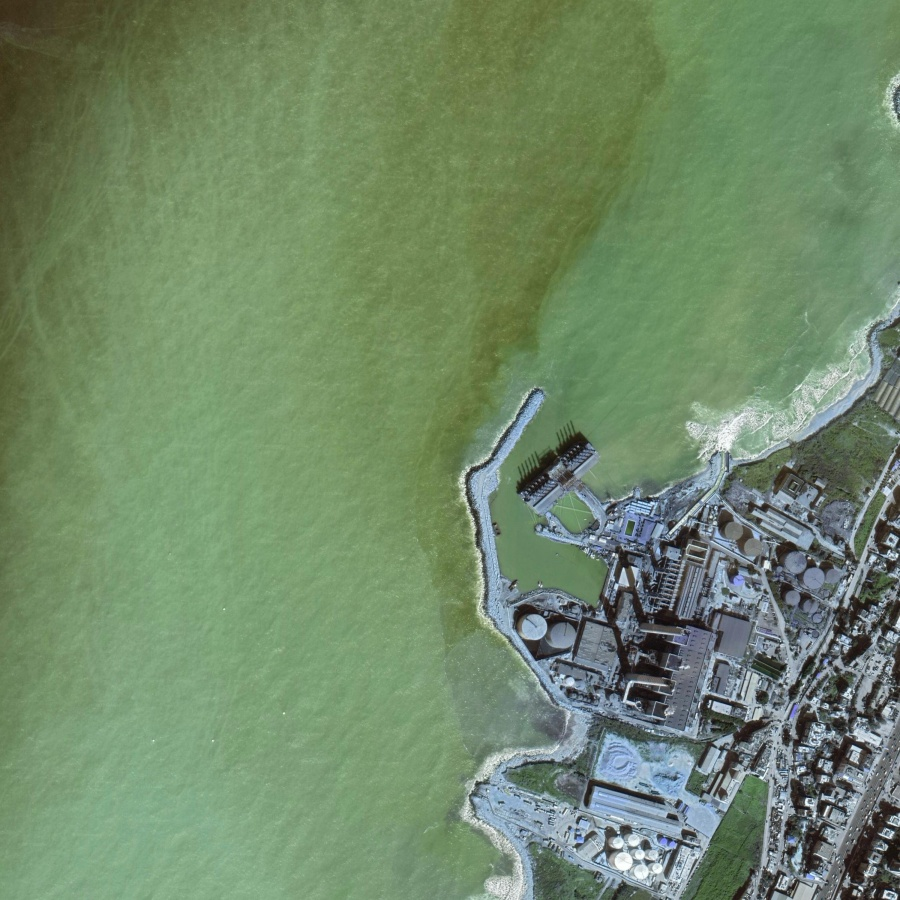PowerPlant: (505, 446, 850, 877)
